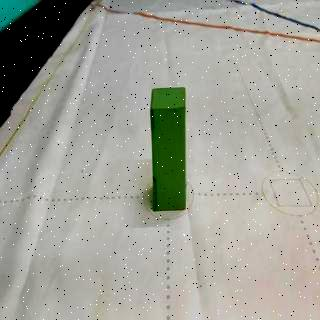greenbox: (150, 86, 188, 212)
